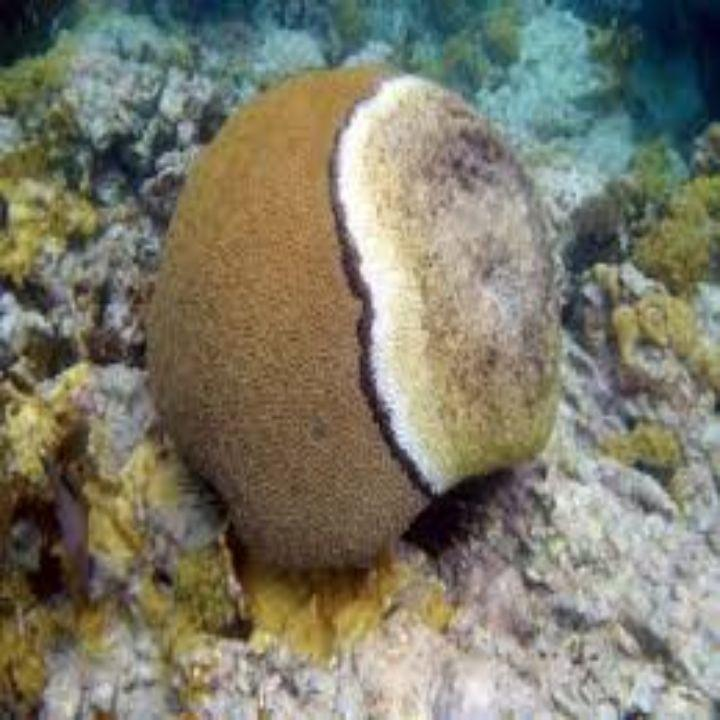Band disease: (280, 68, 572, 511)
